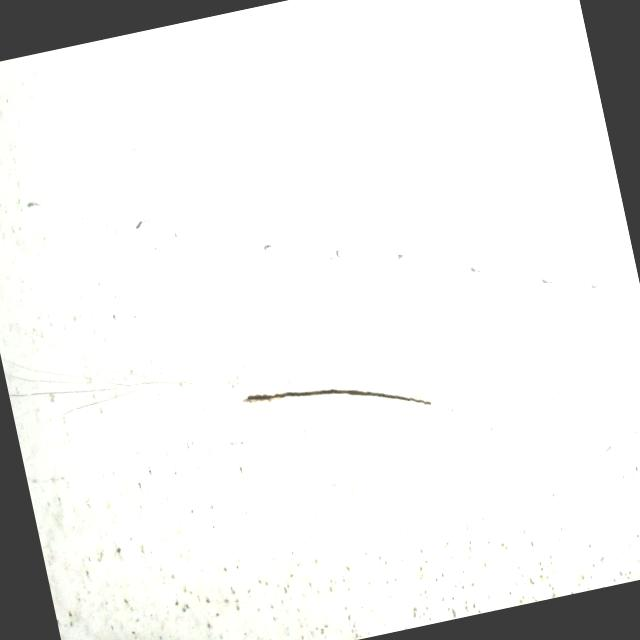crack: (237, 347, 438, 448)
